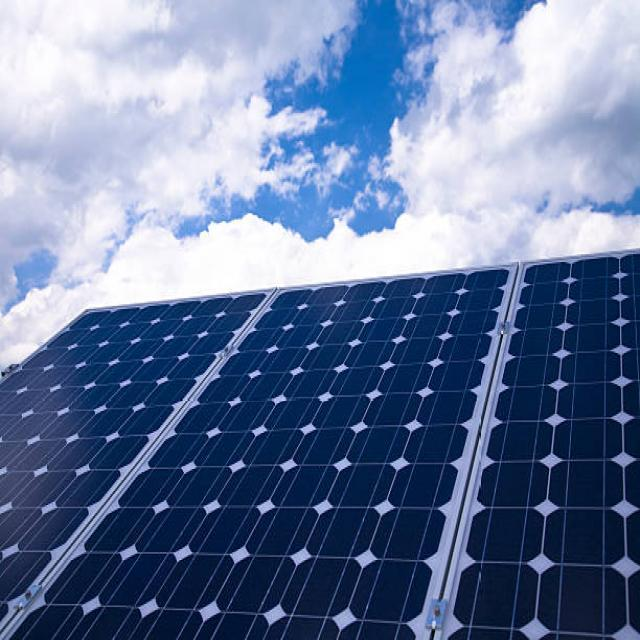no faulty: (0, 263, 518, 640), (0, 288, 272, 633), (441, 249, 640, 640)
